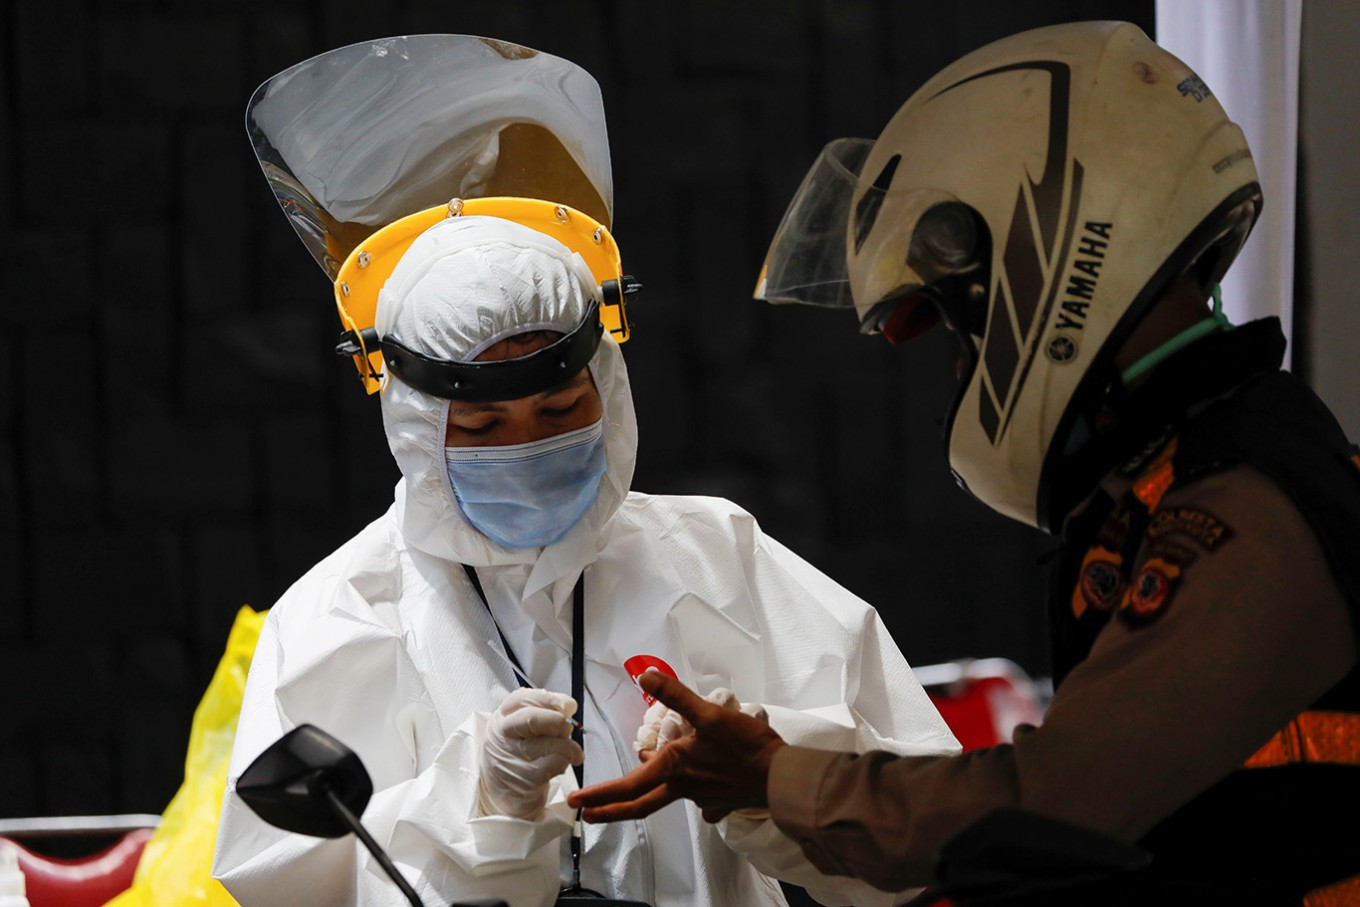Coverall: (207, 215, 965, 907)
Gloves: (478, 681, 584, 831)
with_mask: (444, 384, 604, 549)
